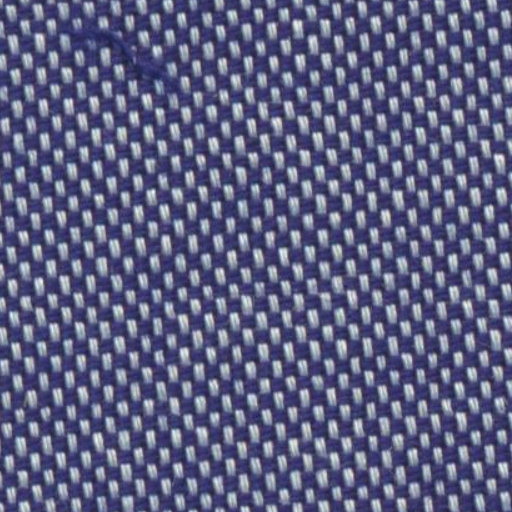DuanSha: (64, 11, 188, 102)
